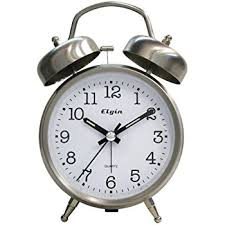alarm_clock: (32, 4, 187, 223)
